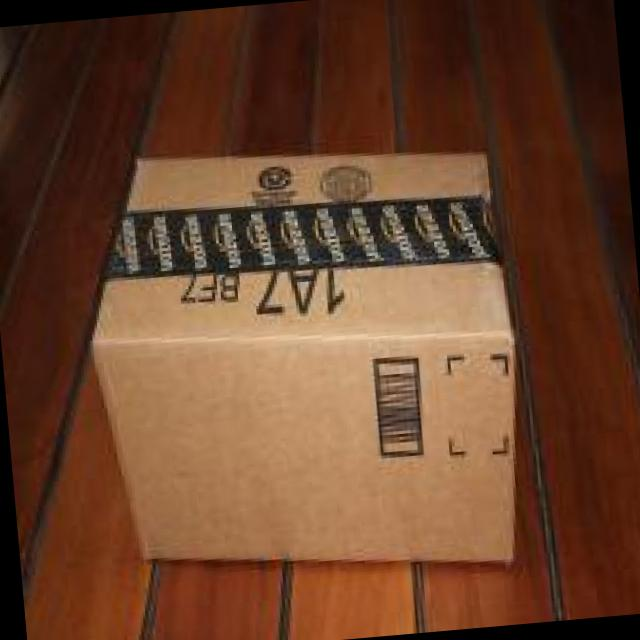box: (86, 153, 519, 561)
